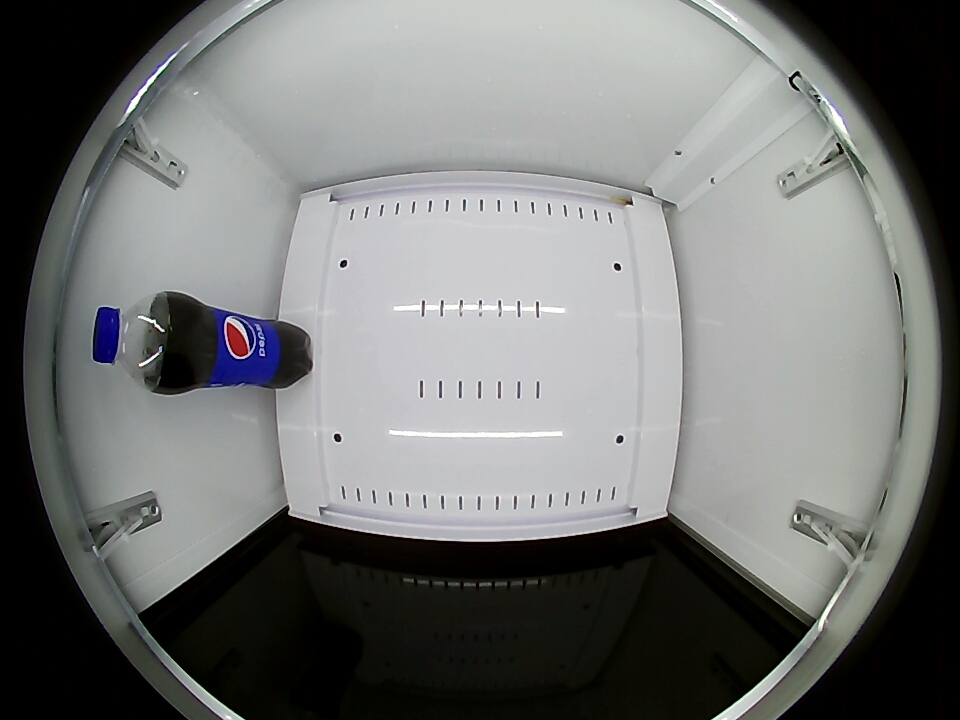baishikele-2: (91, 293, 180, 390)
